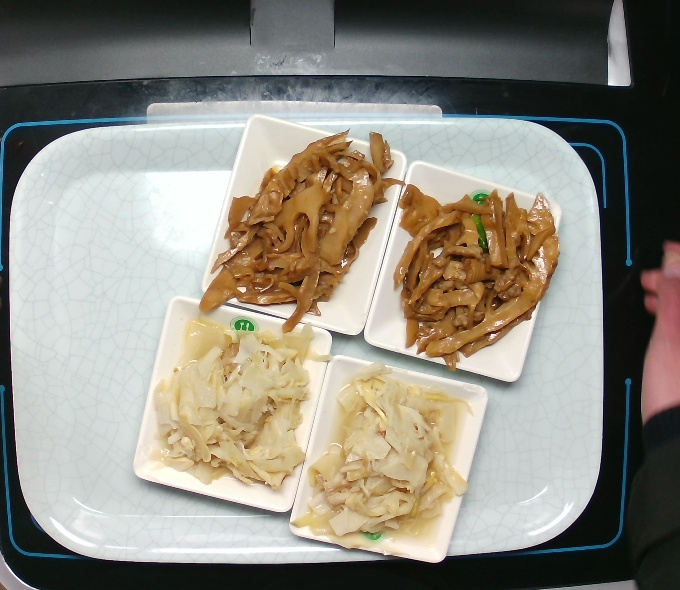wcq-LuSun: (139, 314, 327, 505), (289, 373, 483, 553)
wcq-SunGan: (196, 124, 401, 336), (389, 176, 563, 375)
